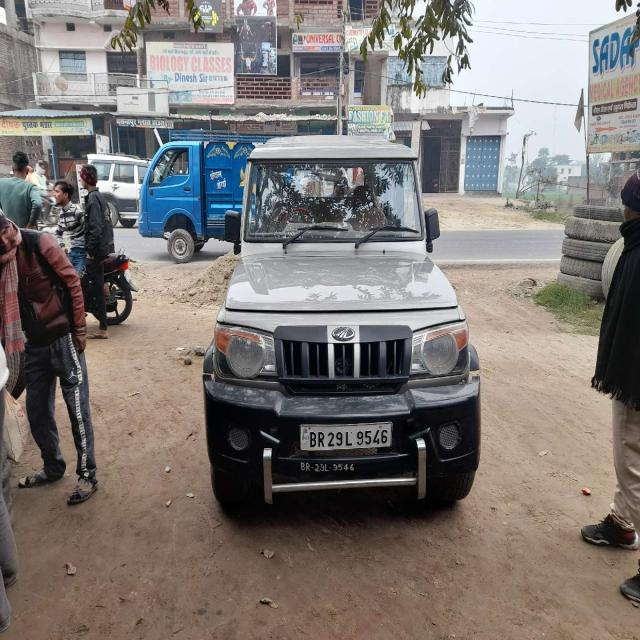light_vehicle: (203, 155, 482, 522)
